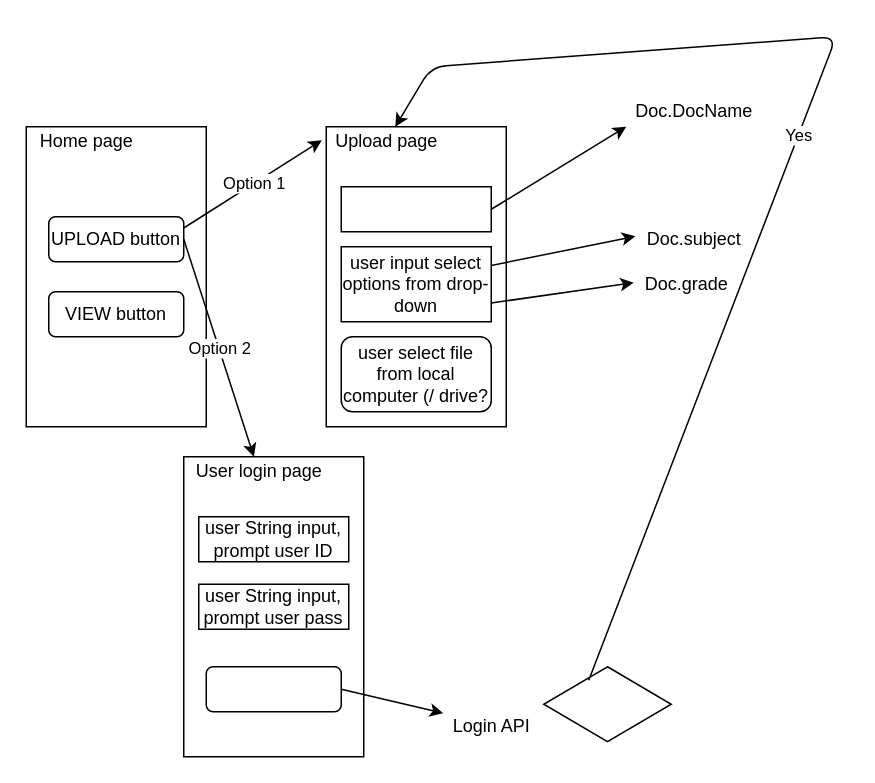
This 875x783 diagram has some shape labels left out. The centre of each missing label's shape, as x and y in pixels:
LOGIN button: the point at 273,688
user String input: the point at 415,208
Valid login?: the point at 606,703
